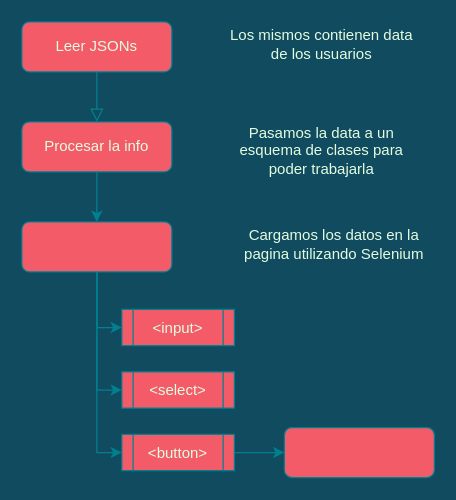
The diagram is 456 pixels wide and 500 high, and some of its shapes have lost their labels. Each missing label, with the centre of its shape:
"Cargar en la pagina" belongs at (96,246).
"Controlar exepcion" belongs at (358,452).
